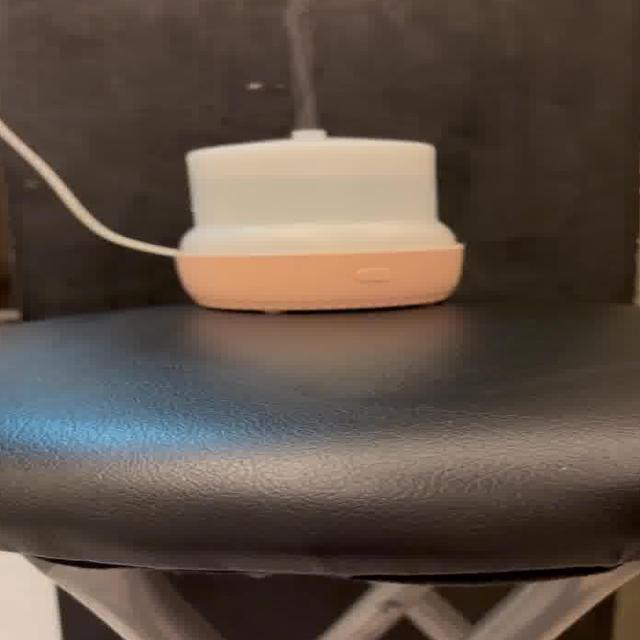fire: (272, 0, 328, 131)
